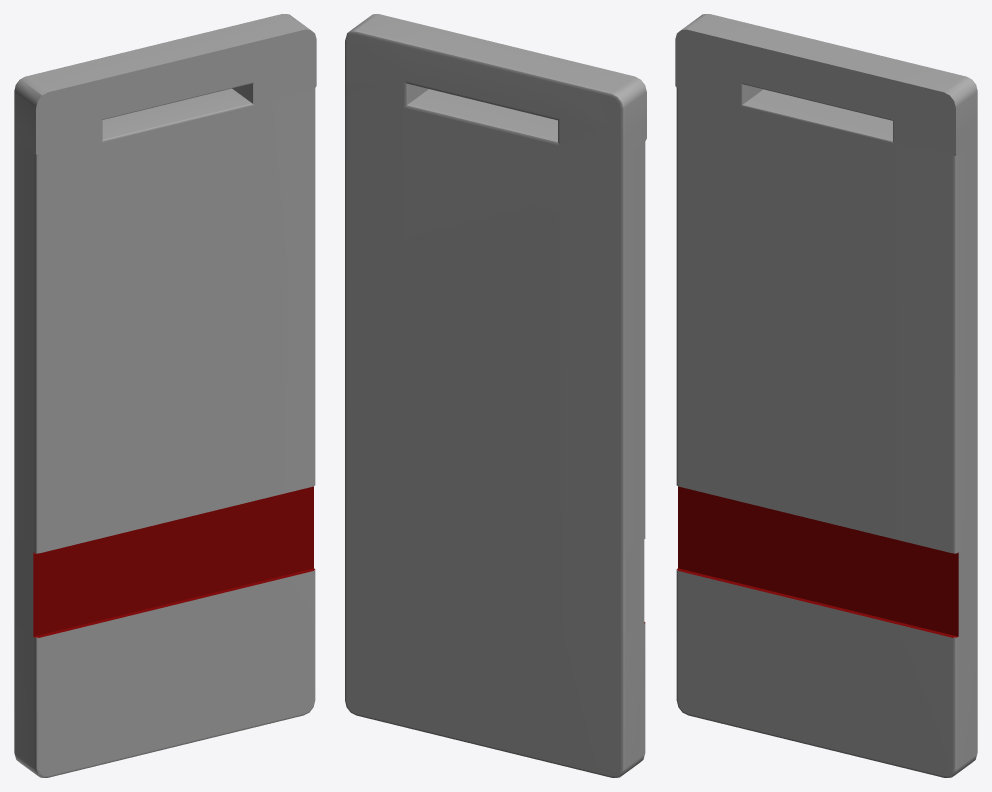
Rendered from token3d model.fbx.
The picture shows the model from 3 angles, left to right: view 1: azimuth 30°, elevation 25°; view 2: azimuth 150°, elevation 25°; view 3: azimuth 330°, elevation 25°; orthographic projection.
Parts seen in each view (by area): view 1: new_token; view 2: new_token; view 3: new_token.
Part boxes in pixels (<box>): new_token: <box>14,14,316,777</box>; new_token: <box>345,14,646,777</box>; new_token: <box>675,14,977,777</box>.
Bounding box in the file's own units: 33.68 × 78.84 × 4.85.
